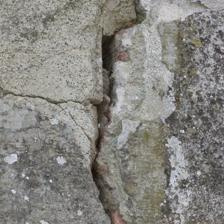Crack: (5, 24, 116, 87), (0, 88, 128, 130)
